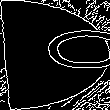O_W: (4, 32, 106, 78)
